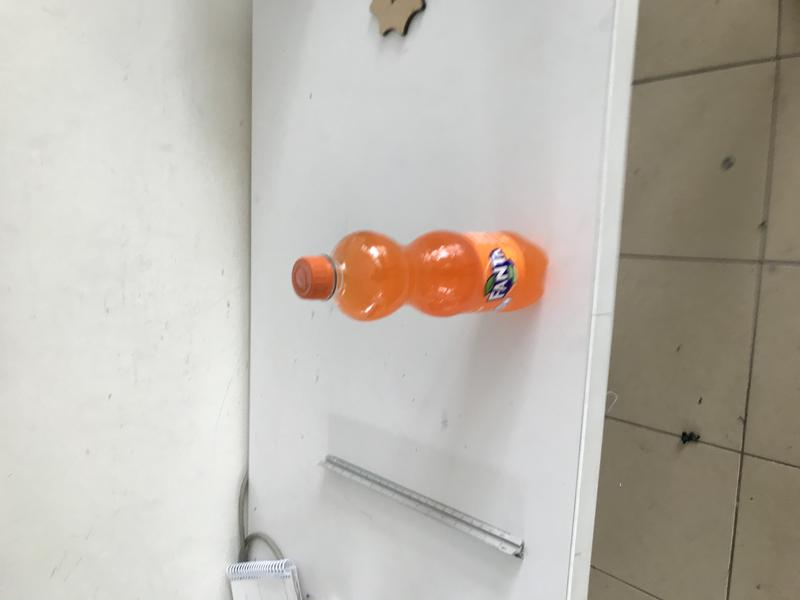fanta: (292, 231, 548, 321)
